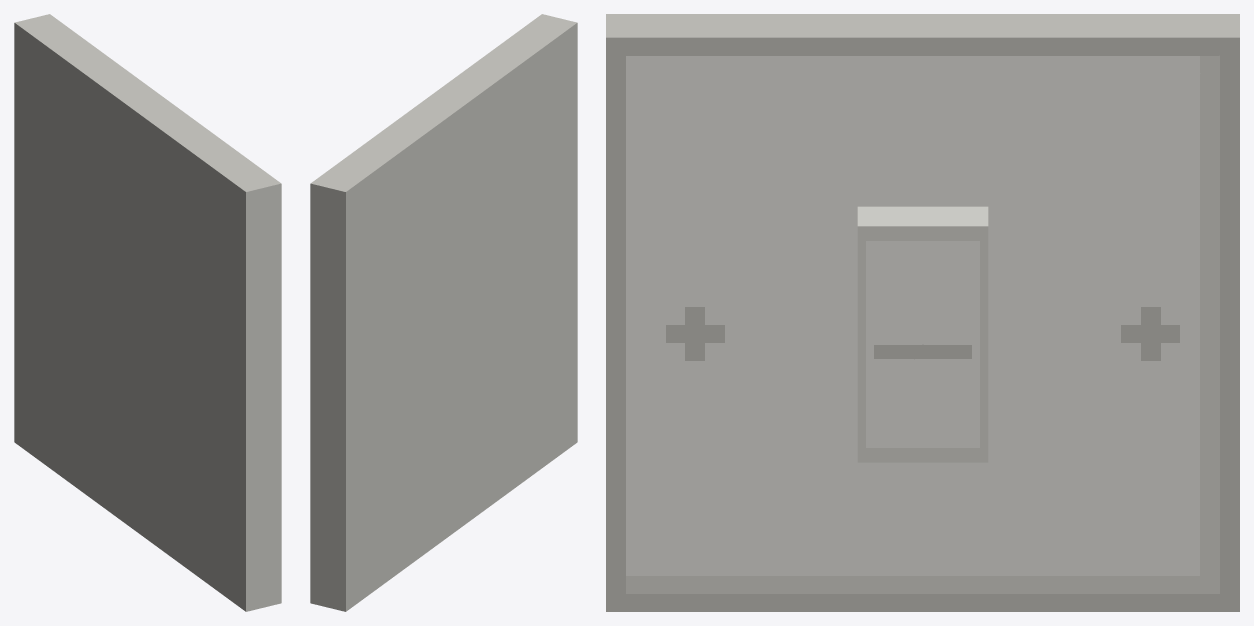
Rendered from uklightswitch.obj.
3 renders of one model, left to right at view 1: azimuth 30°, elevation 25°; view 2: azimuth 150°, elevation 25°; view 3: azimuth 270°, elevation 25°, orthographic. The views are drawn at different scales.
Parts seen in each view (by area): view 1: main; view 2: main; view 3: main, rot.
Part boxes in pixels (left/top/right/bottom): main: left=14, top=14, right=281, bottom=611; main: left=310, top=14, right=577, bottom=611; main: left=606, top=14, right=1239, bottom=611; rot: left=857, top=206, right=988, bottom=462.
Bounding box in the file's own units: 0.055 × 0.34 × 0.34.
1 material, 1 textured.
